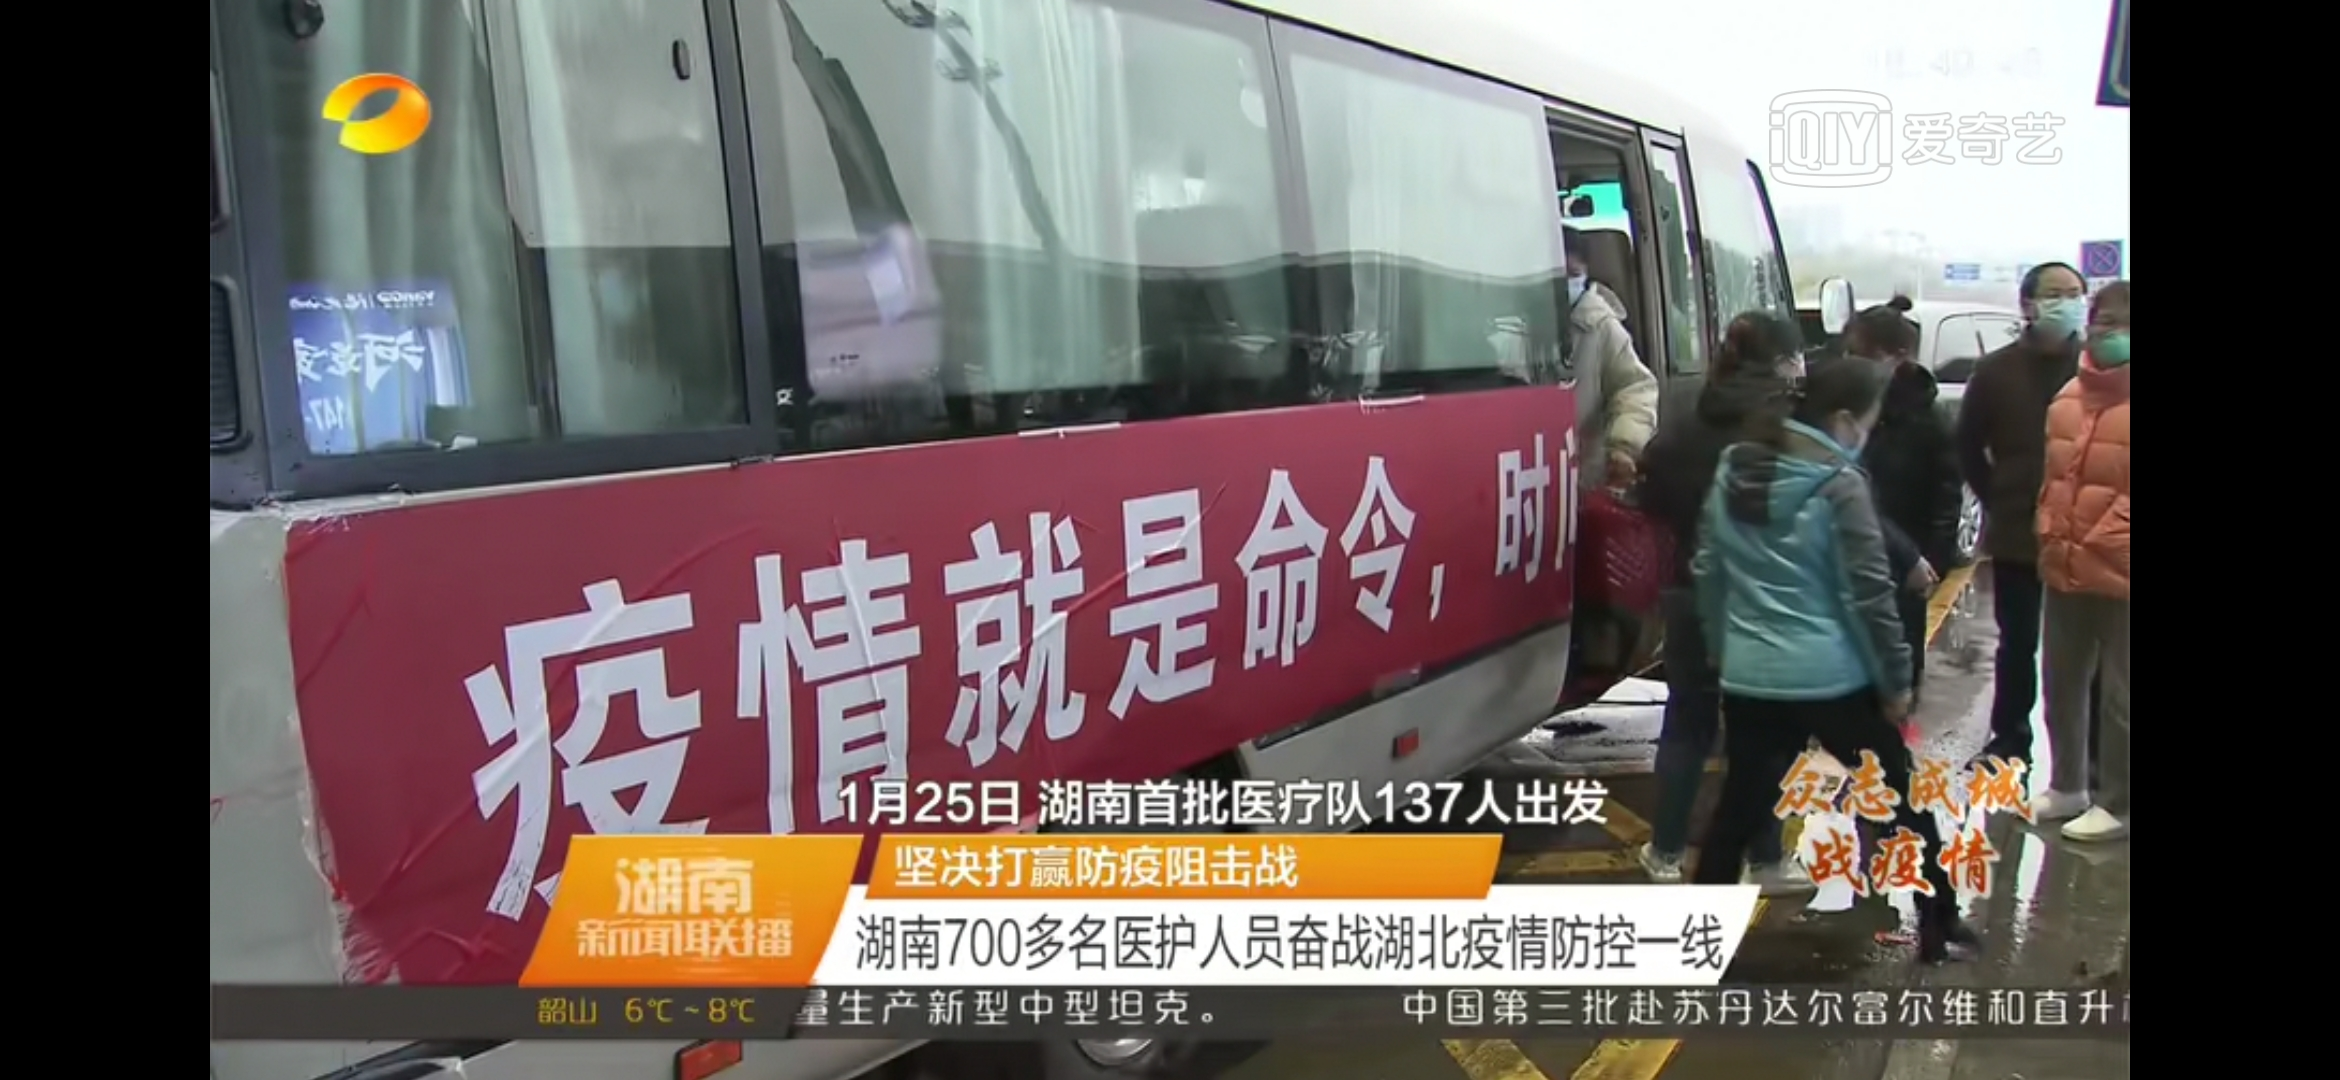correctlyWear: (2022, 277, 2089, 351), (2089, 301, 2130, 371), (1570, 254, 1592, 301)
